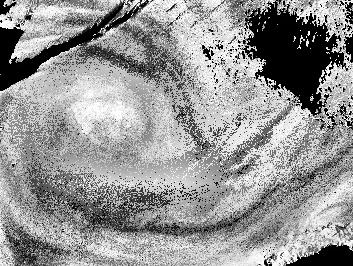AE: (13, 18, 200, 193)
